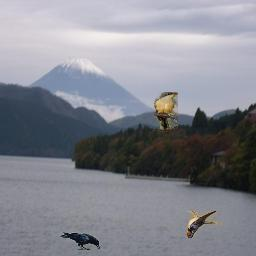Crow: (60, 232, 100, 250)
Cuckoo: (154, 92, 178, 132)
Swallow: (186, 211, 226, 238)
